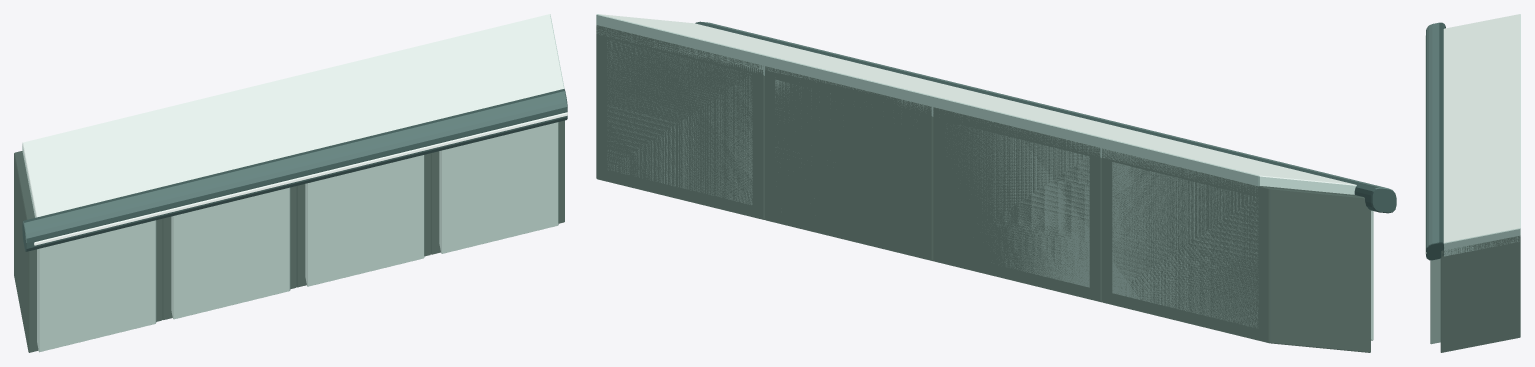
The model's file is Terrain_TopRun4L.gltf.
3 renders of one model, left to right at view 1: azimuth 30°, elevation 25°; view 2: azimuth 150°, elevation 25°; view 3: azimuth 270°, elevation 25°, orthographic. The views are drawn at different scales.
Visible parts, largest first — view 1: Terrain_TopRun4L_baked; view 2: Terrain_TopRun4L_baked; view 3: Terrain_TopRun4L_baked.
Part boxes in pixels (bbox=[...]): Terrain_TopRun4L_baked: bbox=[14, 14, 567, 352]; Terrain_TopRun4L_baked: bbox=[596, 14, 1396, 352]; Terrain_TopRun4L_baked: bbox=[1425, 14, 1520, 352].
Size of the model in its own units: 4.33 by 1.18 by 0.74.
